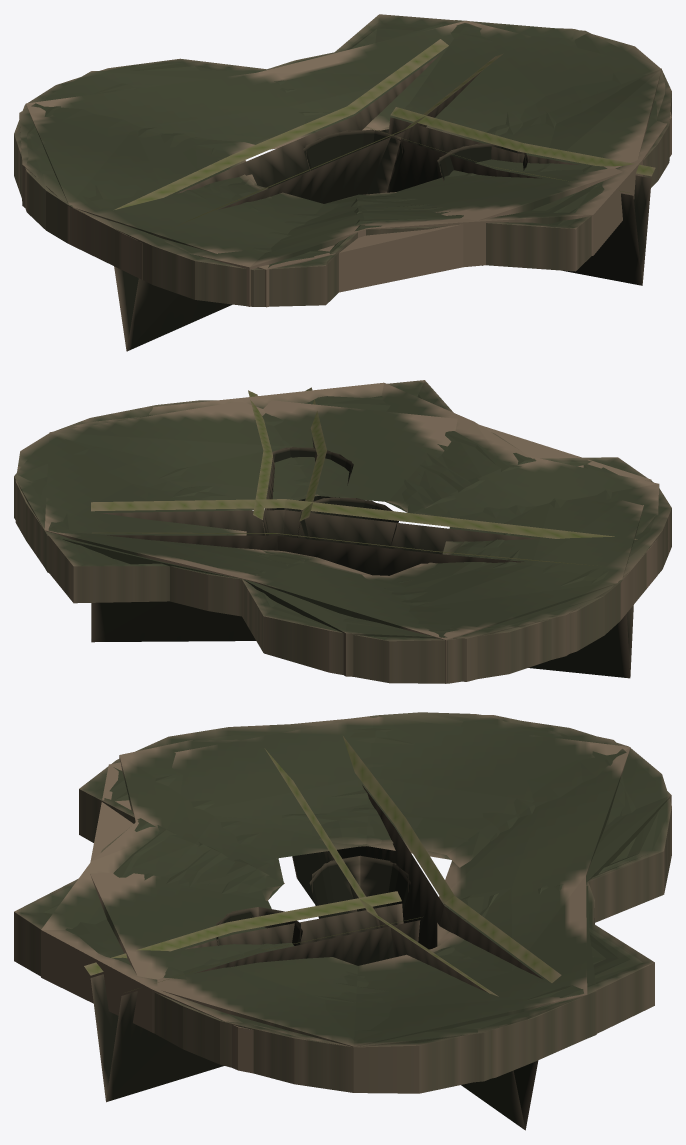
Rendered from SF_INCL_GAS_FISSURE_BRANCH_V1.glb.
3 renders of one model, top to bottom at view 1: azimuth 30°, elevation 25°; view 2: azimuth 150°, elevation 25°; view 3: azimuth 270°, elevation 25°, orthographic. The views are drawn at different scales.
Parts seen in each view (by area): view 1: LOD2_SF_INCL_GAS_FISSURE_BRANCH_V1, LOD0_SF_INCL_GAS_FISSURE_BRANCH_V1, LOD1_SF_INCL_GAS_FISSURE_BRANCH_V1; view 2: LOD0_SF_INCL_GAS_FISSURE_BRANCH_V1, LOD2_SF_INCL_GAS_FISSURE_BRANCH_V1, LOD1_SF_INCL_GAS_FISSURE_BRANCH_V1; view 3: LOD2_SF_INCL_GAS_FISSURE_BRANCH_V1, LOD0_SF_INCL_GAS_FISSURE_BRANCH_V1, LOD1_SF_INCL_GAS_FISSURE_BRANCH_V1.
Part boxes in pixels (box(x1,y1,x2,y2)): LOD2_SF_INCL_GAS_FISSURE_BRANCH_V1: box(26, 20, 661, 307); LOD0_SF_INCL_GAS_FISSURE_BRANCH_V1: box(14, 14, 671, 351); LOD1_SF_INCL_GAS_FISSURE_BRANCH_V1: box(19, 20, 671, 306); LOD0_SF_INCL_GAS_FISSURE_BRANCH_V1: box(15, 380, 671, 683); LOD2_SF_INCL_GAS_FISSURE_BRANCH_V1: box(44, 400, 651, 683); LOD1_SF_INCL_GAS_FISSURE_BRANCH_V1: box(14, 382, 659, 681); LOD2_SF_INCL_GAS_FISSURE_BRANCH_V1: box(90, 716, 630, 1046); LOD0_SF_INCL_GAS_FISSURE_BRANCH_V1: box(14, 712, 671, 1130); LOD1_SF_INCL_GAS_FISSURE_BRANCH_V1: box(41, 715, 671, 1082).
Size of the model in its own units: 1.25 by 0.2709 by 1.04.
Materials: 1 (1 with a texture image).
